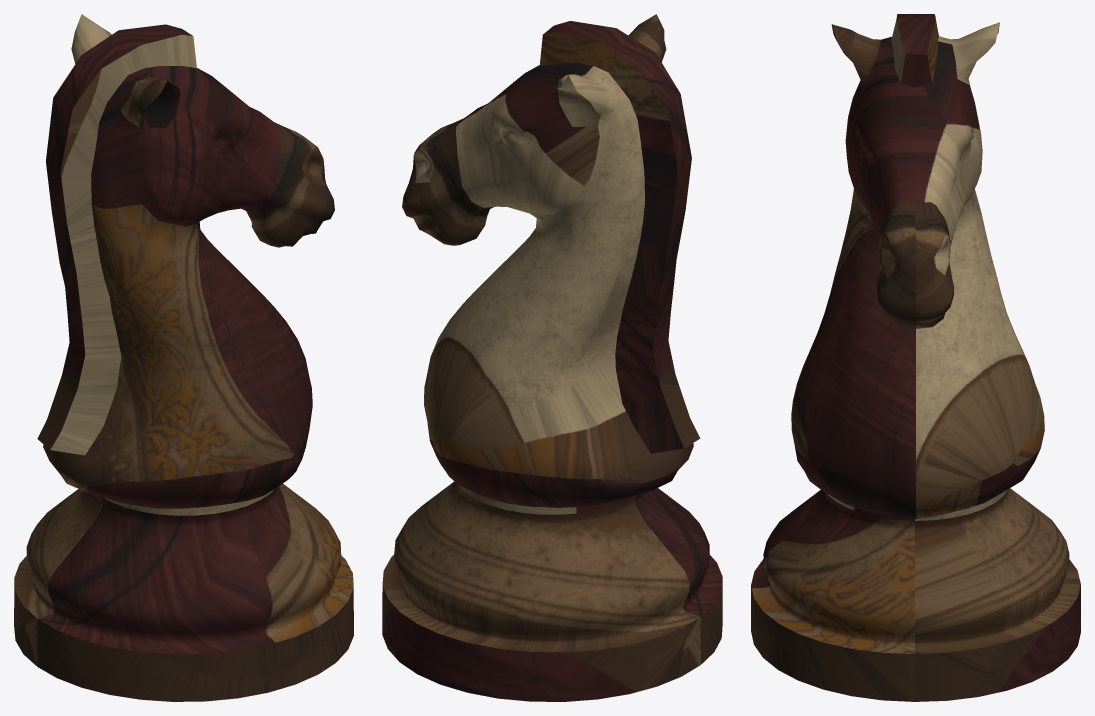
The model's file is Chess.fbx.
3 renders of one model, left to right at view 1: azimuth 30°, elevation 25°; view 2: azimuth 150°, elevation 25°; view 3: azimuth 270°, elevation 25°, orthographic. The views are drawn at different scales.
Visible parts, largest first — view 1: defaultobject; view 2: defaultobject; view 3: defaultobject.
Part boxes in pixels (x1,y1,x2,y2): defaultobject: [14, 14, 353, 701]; defaultobject: [382, 14, 722, 701]; defaultobject: [751, 14, 1080, 701].
Bounding box in the file's own units: 510 × 1004 × 509.
